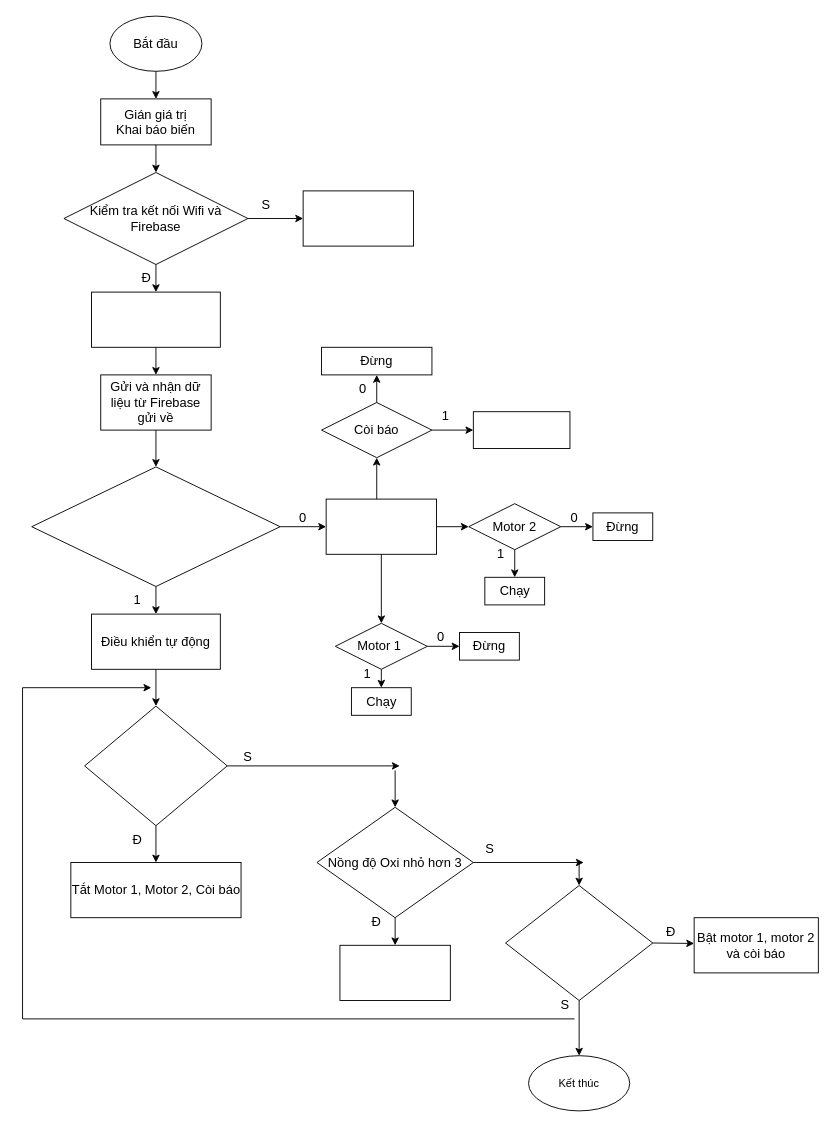
Image size: 834x1127. Some labels were removed from this diagram. The centre of each missing label's shape, as x and y in pixels:
"Báo động" belongs at (x=521, y=429).
"Bật motor 1 và còi báo, tắt motor 2" belongs at (x=394, y=972).
"Chọn chế độ điều khiển tay hay tự động( 0/1)" belongs at (x=155, y=526).
"Không gửi dữ liệu Chờ kết nối" belongs at (x=358, y=218).
"Nhận dữ liệu từ STM32 gửi đến và xử lí chuỗi nhận được" belongs at (x=155, y=319).
"Nồng độ Oxi lớn hơn nồng độ Oxi đạt chuẩn" belongs at (x=155, y=765).
"Nồng độ Oxi nhỏ hơn 2" belongs at (x=579, y=942).
"Điều khiển tay" belongs at (x=381, y=526).
